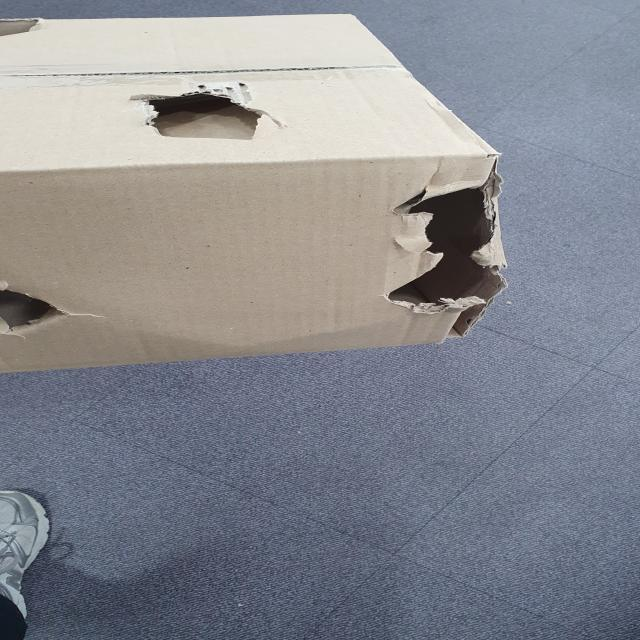hole: (376, 161, 512, 347), (128, 80, 272, 153), (2, 282, 99, 344)
